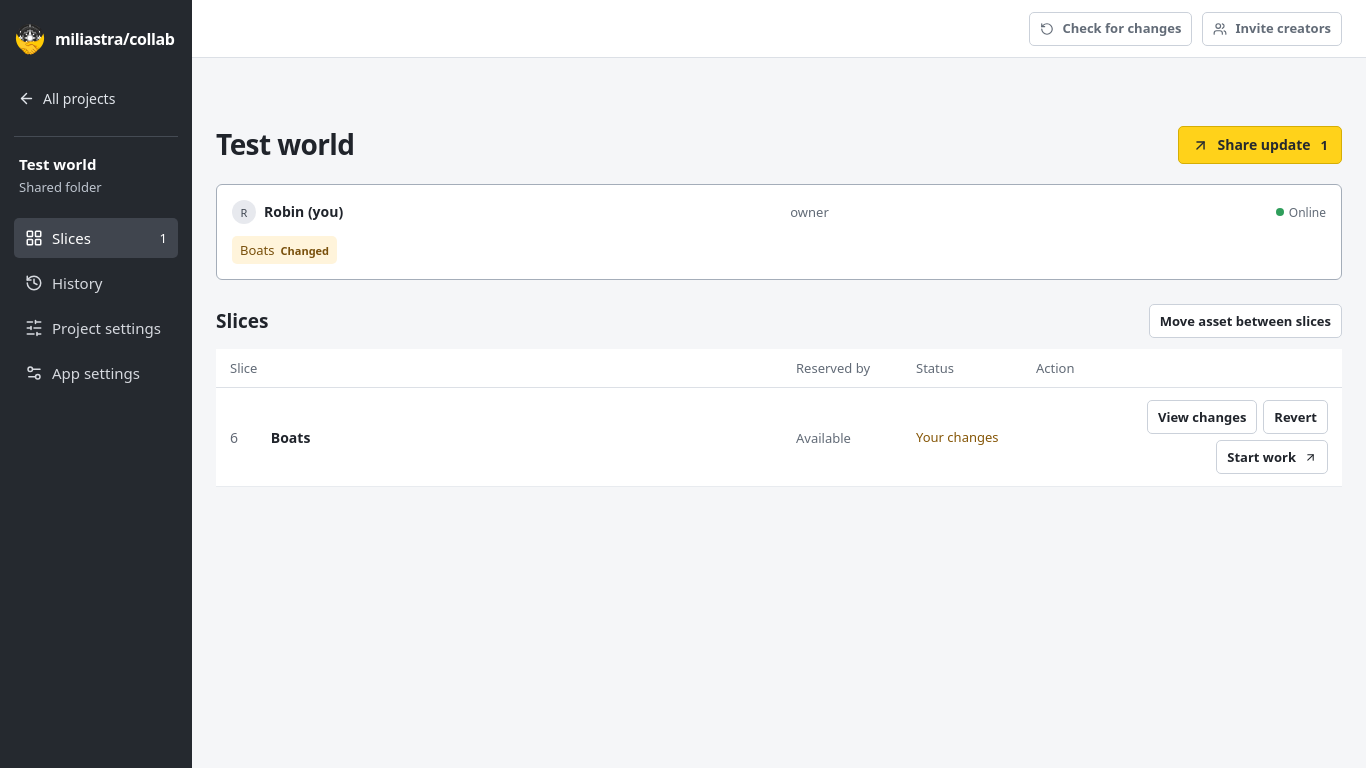
Test: waits for an older autosave before flushing the latest draft and leaving
The width and height of the screenshot is (1366, 768).
Expected: the heading "Test world" is shown, [216,128,354,162]
Click the button "Share update 1" at (1260, 145), box [1178,126,1342,164]
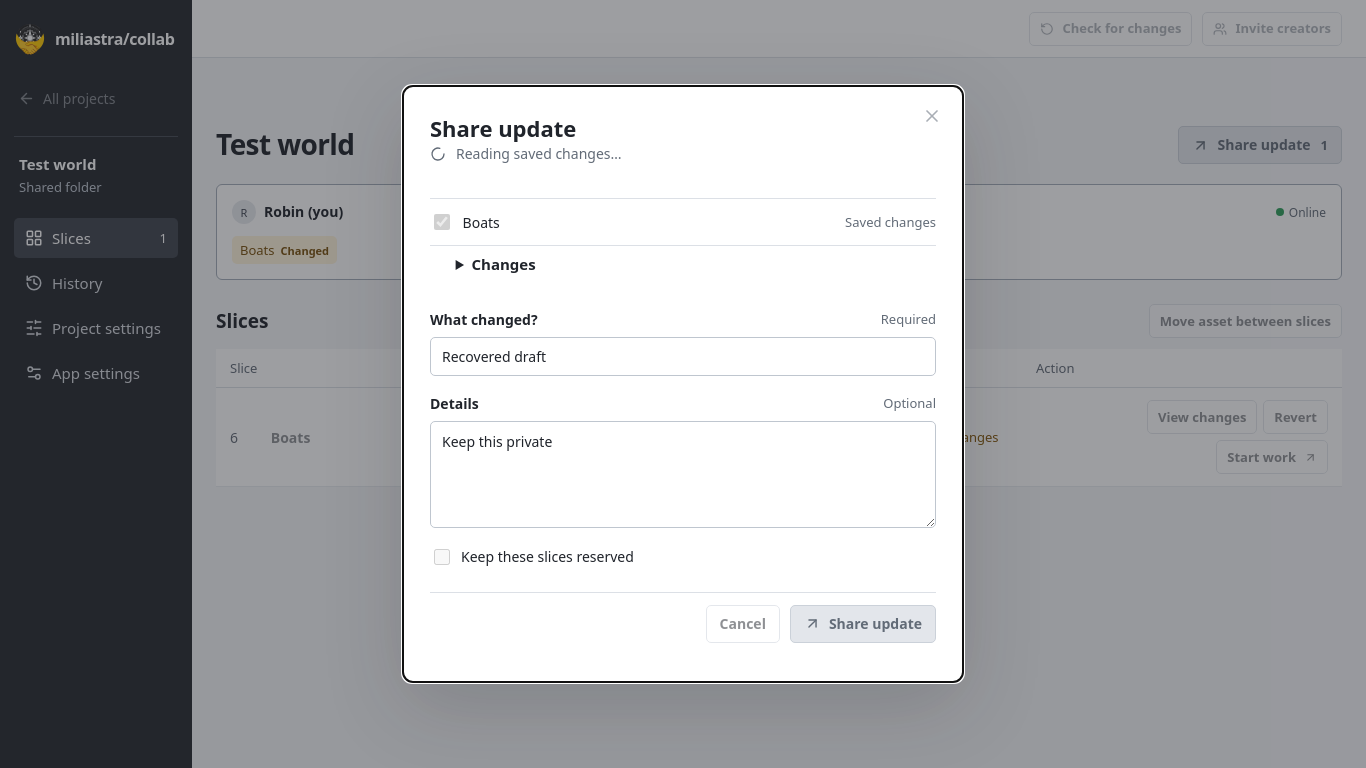
Replace the text in the field with placeholder "Fixed passengers falling through the boat deck" with "Older autosave" at (683, 356), box [430,337,936,376]
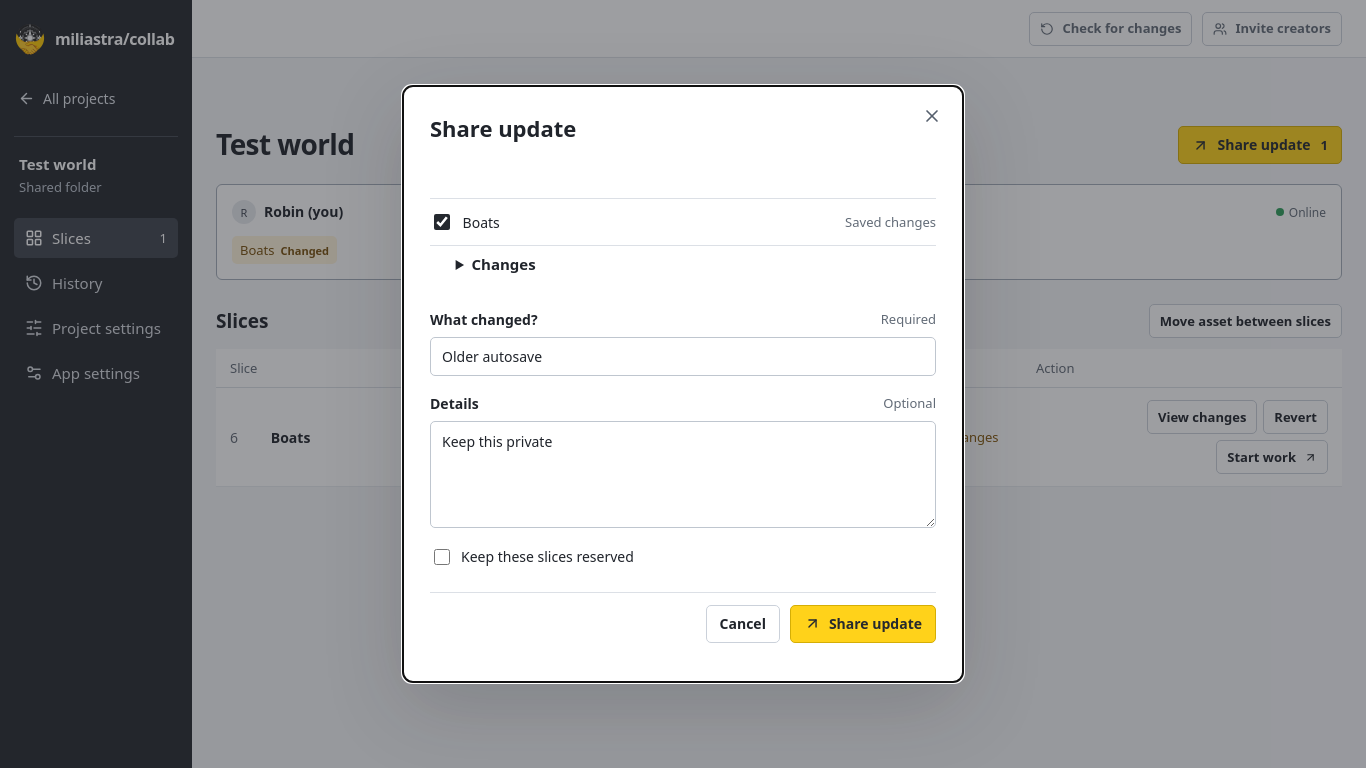
Replace the text in the field with placeholder "Fixed passengers falling through the boat deck" with "Newest draft" at (683, 356), box [430,337,936,376]
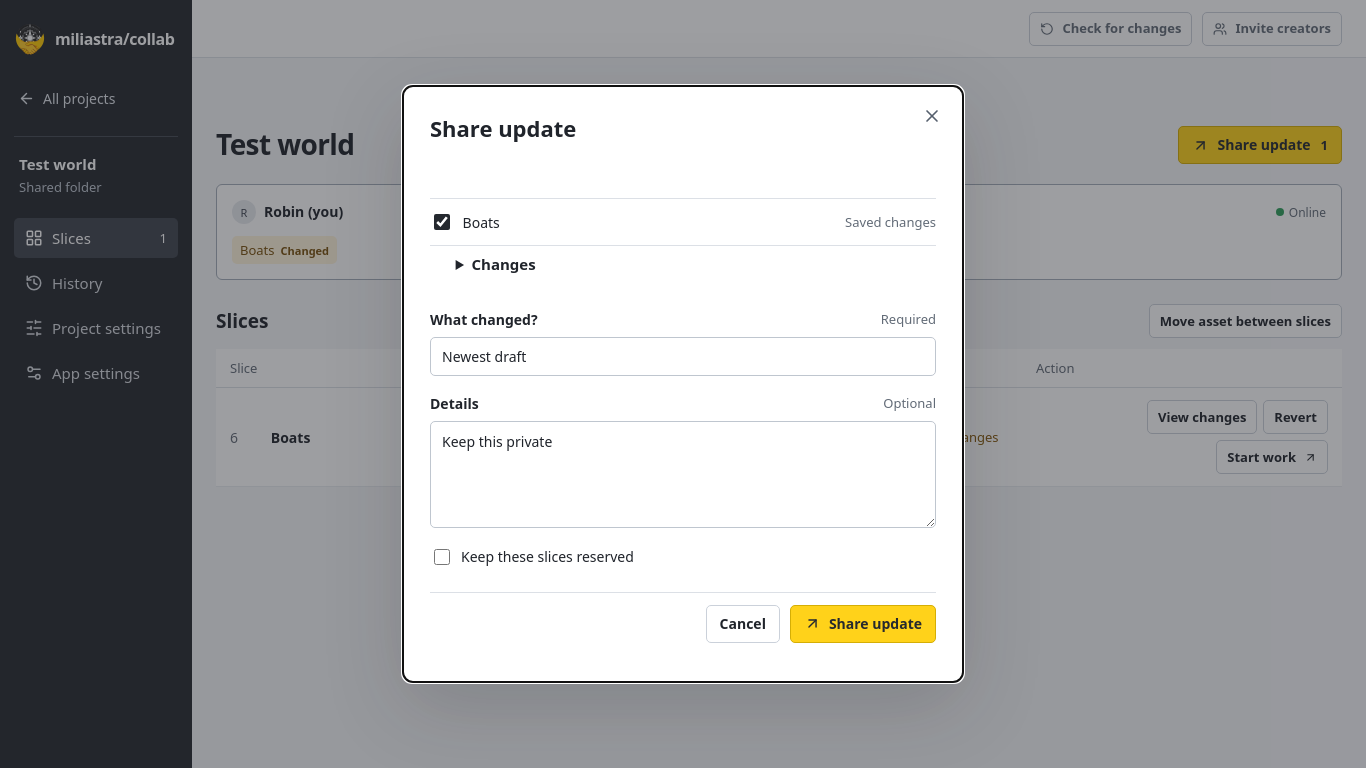
Now the button named "Close" is enabled
Click the button named "Close" at (932, 118), box [917,101,947,135]
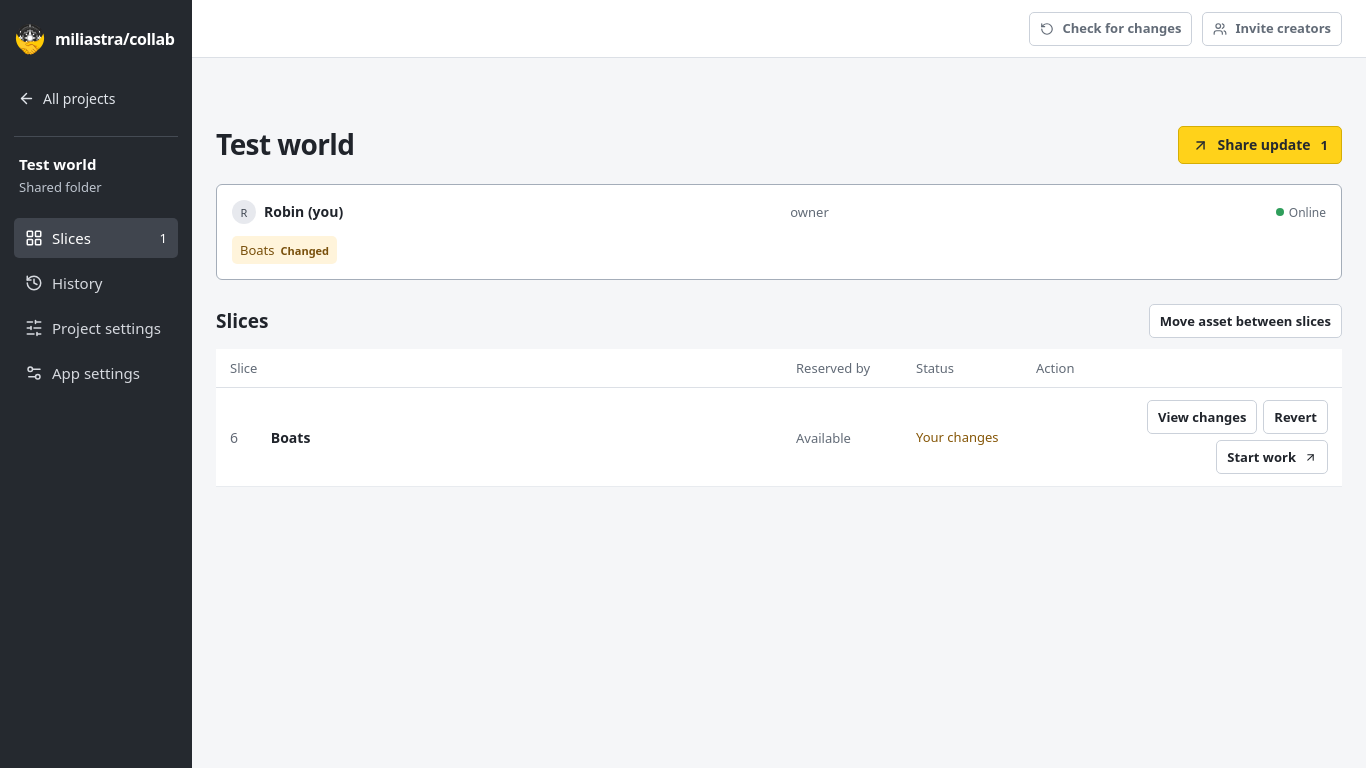
Click the button "All projects" at (96, 98), box [14,78,178,118]
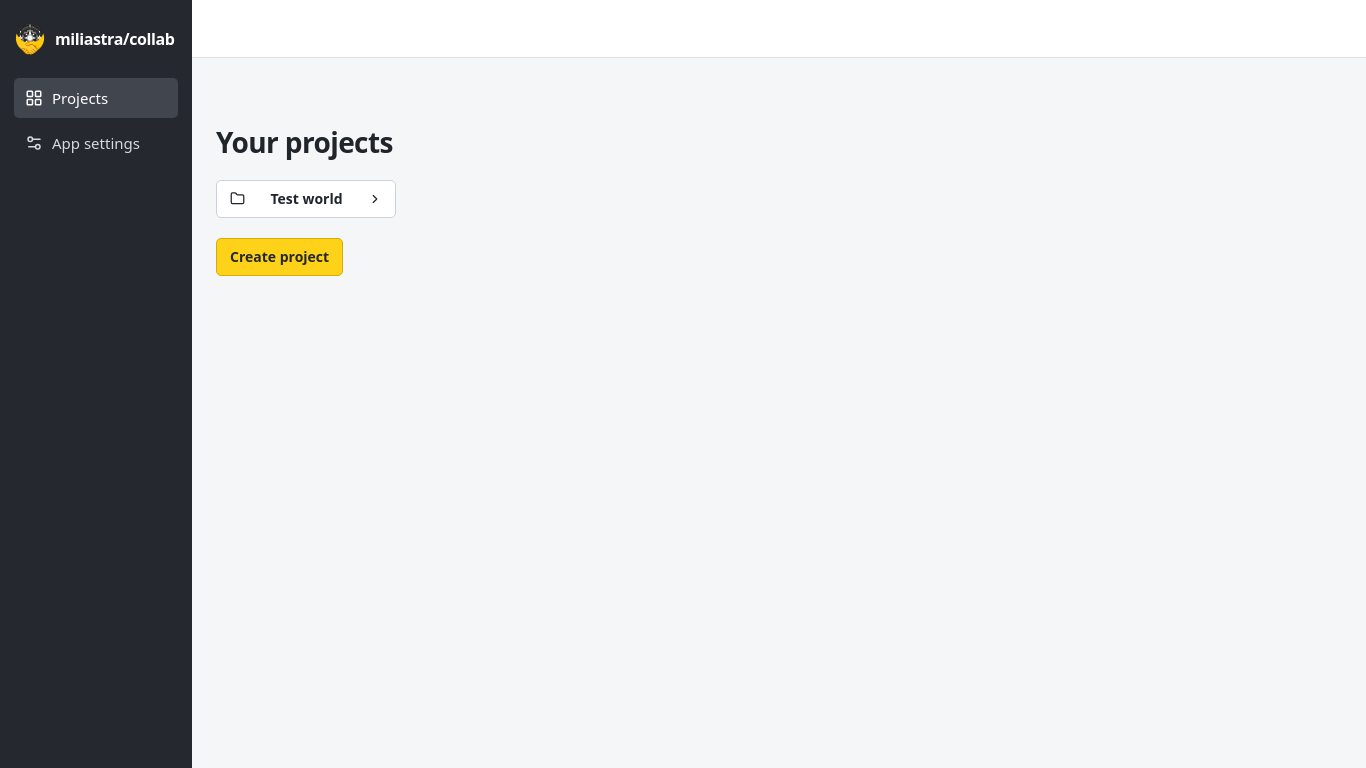
Now the heading "Your projects" is shown, box [216,126,393,160]
